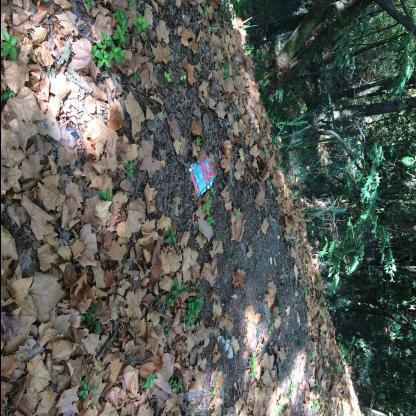karton: (189, 157, 215, 198)
